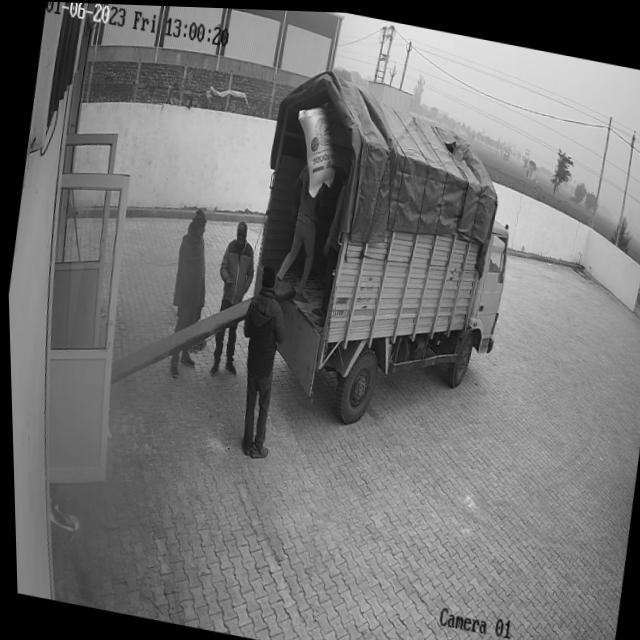sack: (284, 100, 346, 198)
